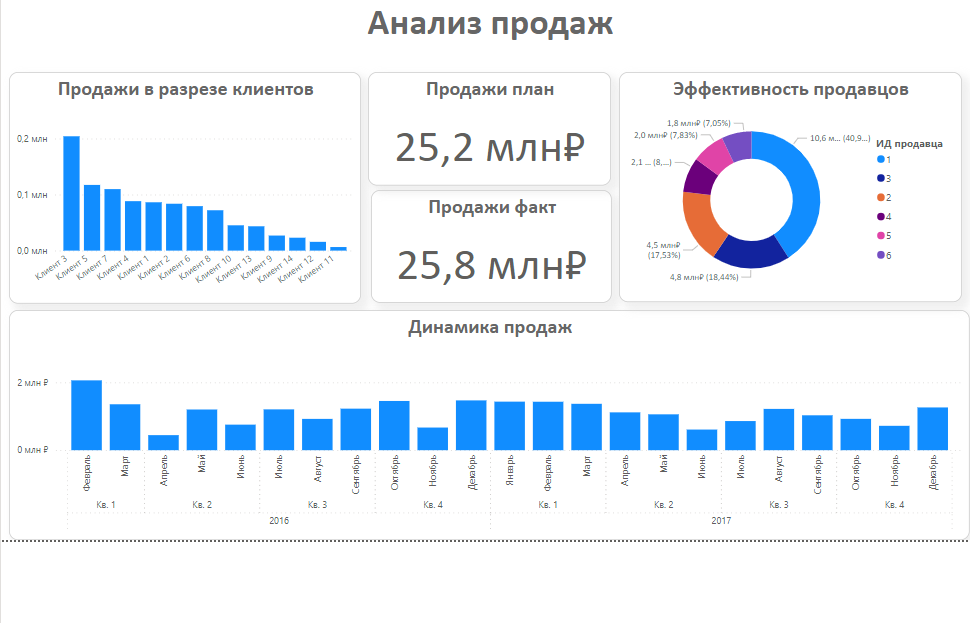

Layout of this report page (visuals, bound fields, positions):
{"tool":"powerbi","page":{"name":"Страница 1","canvas":[1280,720],"ordinal":0},"visuals":[{"type":"clusteredBarChart","title":"Продажи в разрезе клиентов","fields":{"Category":["Клиенты.Название клиента"],"Y":["Sum(Продажи.Цена продажи за единицу)","Sum(Продажи.Цена продажи за единицу (план))"]},"box":[10.4,101.5,465,305.8],"z":0},{"type":"card","title":"Продажи факт","fields":{"Values":["Sum(Продажи.Цена продажи)"]},"box":[488.3,257,318.2,149.3],"z":1000},{"type":"card","title":"Продажи план","fields":{"Values":["Sum(Продажи.Цена продажи (план))"]},"box":[485.4,101.1,320.9,150.4],"z":2000},{"type":"areaChart","title":"Динамика продаж","fields":{"Category":["Продажи.Дата доставки.Изменение.Иерархия дат.Год"],"Y":["Sum(Продажи.Цена продажи (план))","Продажи.Продажи факт"]},"box":[10.6,416.1,1269.4,304.4],"z":3000},{"type":"donutChart","title":"Эффективность продавцов","fields":{"Y":["Sum(Продажи.Цена продажи)"],"Category":["Продавцы.ИД продавца"]},"box":[816.9,101.1,452.5,304.4],"z":4000},{"type":"textbox","box":[214.3,0,865.6,91.7],"z":5000}]}

Visuals, with their boxes on the page's 1280x720 design canvas (x1, y1, x2, y2). These are canvas units, not pixel positions in the 970x623 screenshot, which may show the page scaled, cropped or inside an application window:
"Продажи в разрезе клиентов" clusteredBarChart: left=10, top=102, right=475, bottom=407
"Продажи факт" card: left=488, top=257, right=806, bottom=406
"Продажи план" card: left=485, top=101, right=806, bottom=252
"Динамика продаж" areaChart: left=11, top=416, right=1280, bottom=720
"Эффективность продавцов" donutChart: left=817, top=101, right=1269, bottom=406
textbox: left=214, top=0, right=1080, bottom=92
